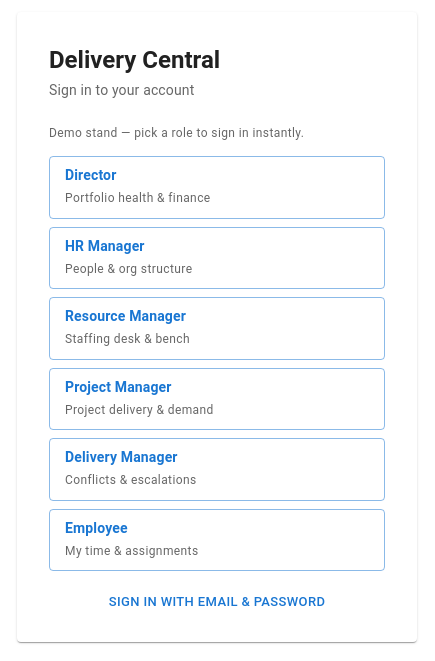
Test: LoginPage — demo role selector (VITE_DEMO_MODE) › reveals the password form via the toggle and can return to the role picker
Expected: the button with test id "demo-role-director" is shown, [49,156,385,218]
Click the button "Sign in with email & password" at coordinates (217, 602), box [104,587,330,618]
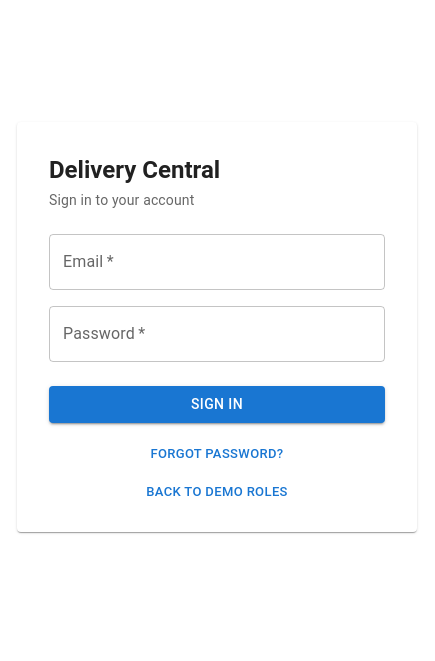
Expected: the field labelled "Email *" is shown, [49,234,385,290]
Expected: the button with test id "demo-role-director" is gone
Click the button "Back to demo roles" at coordinates (217, 493), box [141,477,293,508]
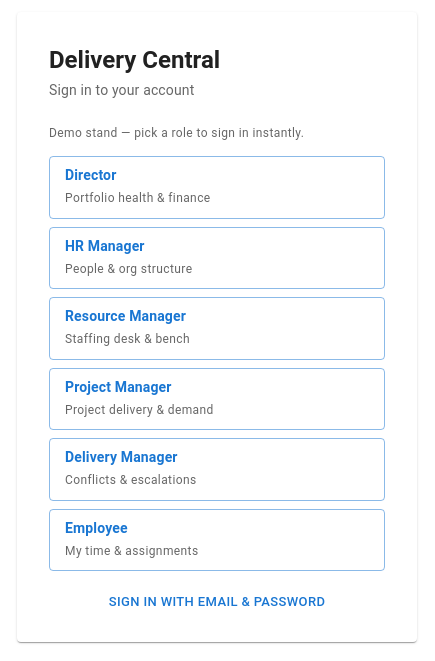
Expected: the button with test id "demo-role-director" is shown, [49,156,385,218]
